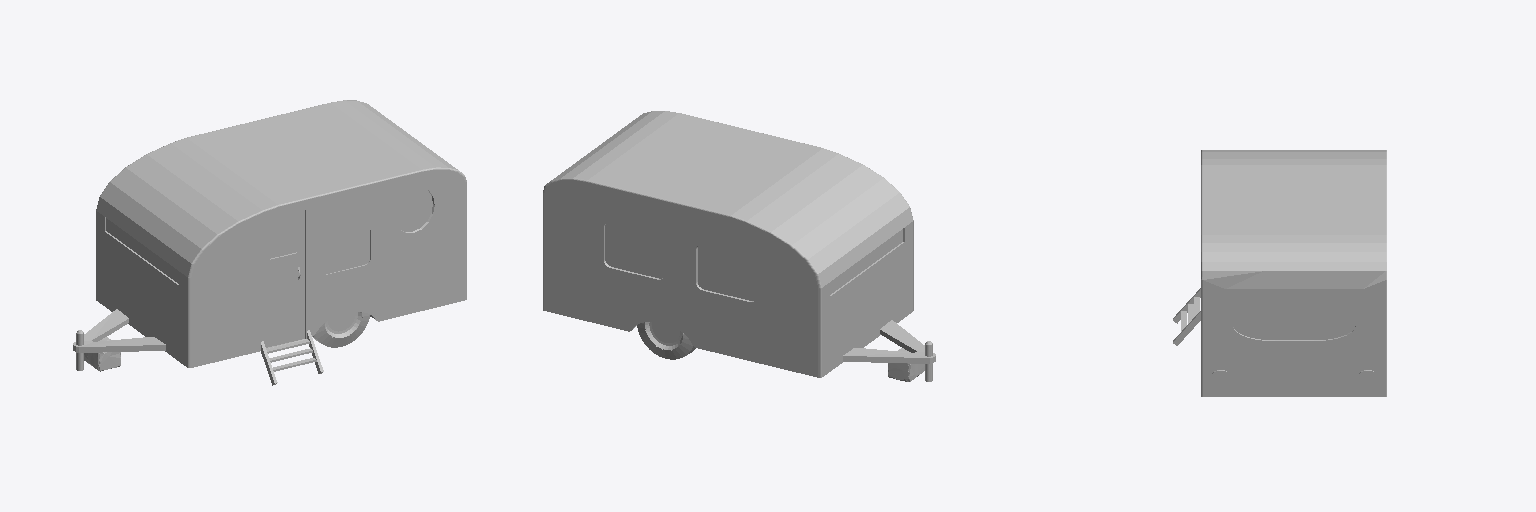
File: trailer.obj
3 renders of one model, left to right at view 1: azimuth 30°, elevation 25°; view 2: azimuth 150°, elevation 25°; view 3: azimuth 270°, elevation 25°, orthographic.
Visible parts, largest first — view 1: top_and_stairs, trailer_sides, windows, tyres and support, rock; view 2: top_and_stairs, trailer_sides, windows, tyres and support, rock; view 3: top_and_stairs, windows.
Boxes of the visible parts, x1=… form: top_and_stairs: x1=96, y1=100, x2=466, y2=385; trailer_sides: x1=128, y1=141, x2=466, y2=367; windows: x1=105, y1=187, x2=434, y2=284; tyres and support: x1=73, y1=309, x2=374, y2=370; rock: x1=84, y1=337, x2=120, y2=371; top_and_stairs: x1=547, y1=111, x2=913, y2=377; trailer_sides: x1=543, y1=157, x2=869, y2=377; windows: x1=604, y1=223, x2=904, y2=301; tyres and support: x1=633, y1=320, x2=935, y2=381; rock: x1=888, y1=348, x2=924, y2=381; top_and_stairs: x1=1173, y1=150, x2=1385, y2=396; windows: x1=1233, y1=296, x2=1355, y2=340.
Bounding box in the file's own units: 41.06 × 18.83 × 21.98.